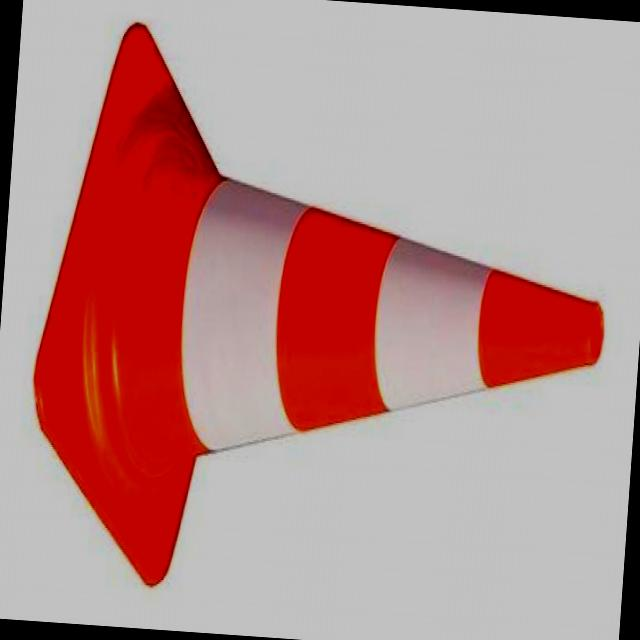cone: (26, 60, 640, 606)
